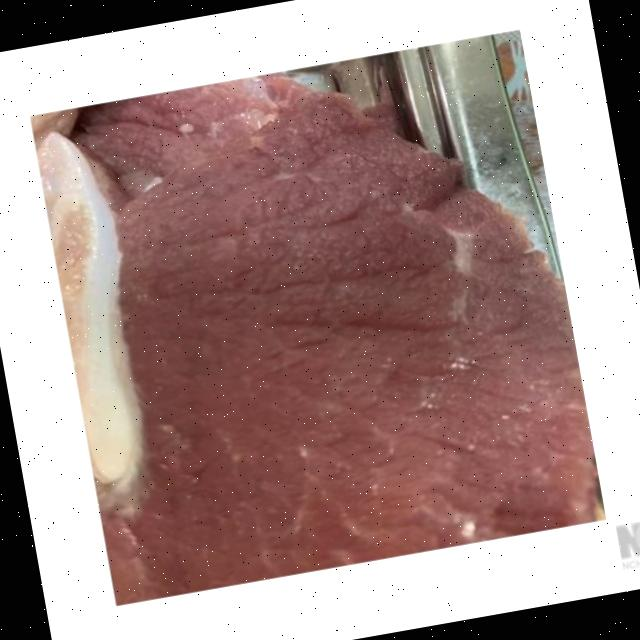rotten meat: (10, 10, 622, 618)
